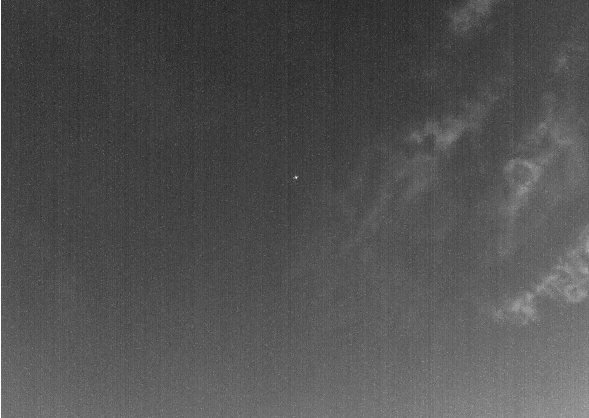dim target: (292, 175, 299, 180)
